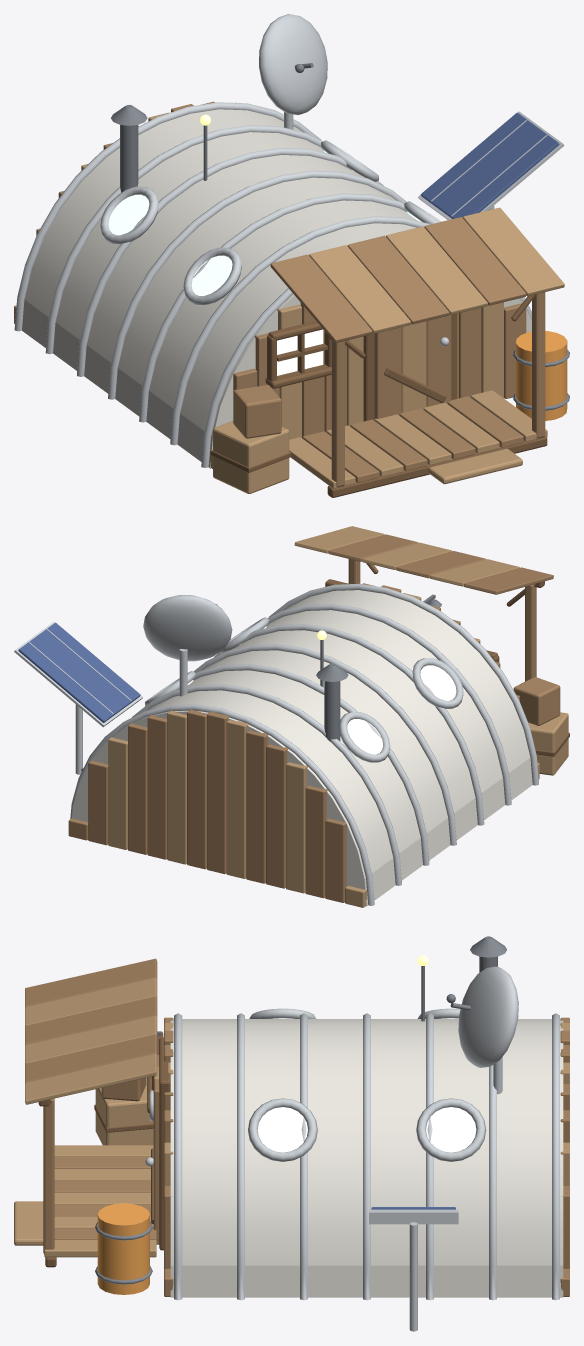
Rendered from hut.glb.
The picture shows the model from 3 angles, top to bottom: view 1: azimuth 30°, elevation 25°; view 2: azimuth 150°, elevation 25°; view 3: azimuth 270°, elevation 25°; orthographic projection. The views are drawn at different scales.
Visible parts, largest first — view 1: hut_tc; view 2: hut_tc; view 3: hut_tc.
Boxes of the visible parts, x1,y1,x2,y2 form: hut_tc: (14, 14, 569, 497); hut_tc: (14, 526, 569, 907); hut_tc: (14, 936, 569, 1331).
Bounding box in the file's own units: 5.77 × 3.27 × 5.94.
